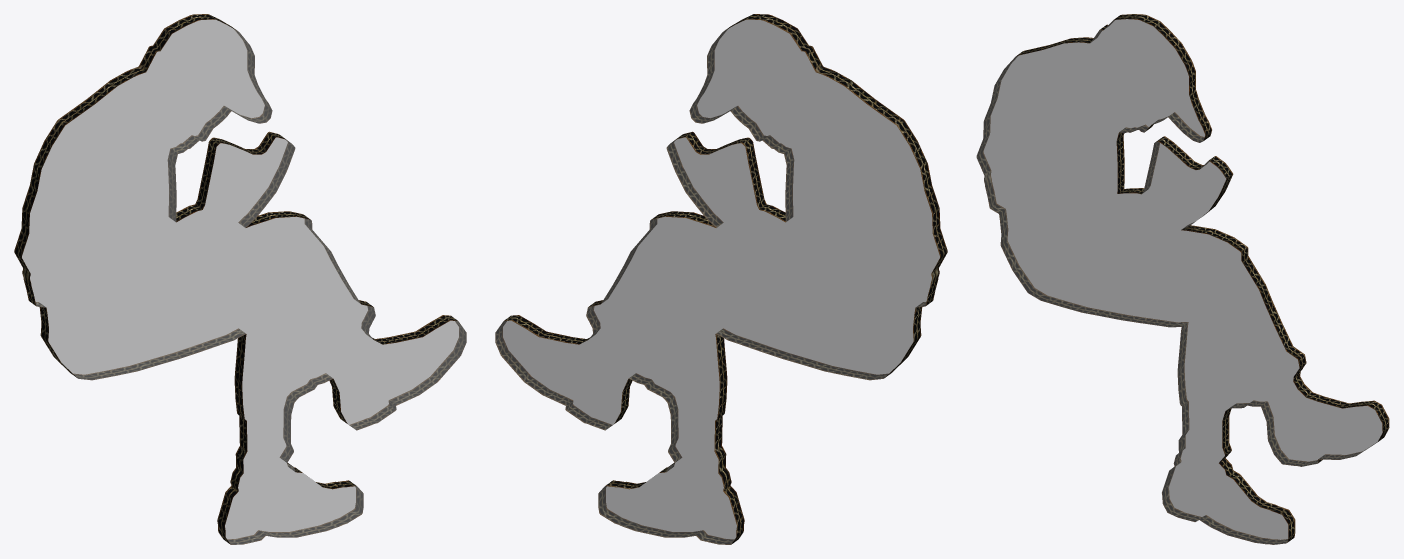
The model's file is NPC_Cafe_Patron_Older_Male_Reading_Newspaper.FBX.
3 renders of one model, left to right at view 1: azimuth 30°, elevation 25°; view 2: azimuth 150°, elevation 25°; view 3: azimuth 330°, elevation 25°, orthographic. The views are drawn at different scales.
Visible parts, largest first — view 1: NPC_Cafe_Patron_Older_Male_Reading_Newspaper; view 2: NPC_Cafe_Patron_Older_Male_Reading_Newspaper; view 3: NPC_Cafe_Patron_Older_Male_Reading_Newspaper.
Part boxes in pixels (box(x1,y1,x2,y2)): NPC_Cafe_Patron_Older_Male_Reading_Newspaper: box(14, 14, 466, 544); NPC_Cafe_Patron_Older_Male_Reading_Newspaper: box(495, 14, 947, 544); NPC_Cafe_Patron_Older_Male_Reading_Newspaper: box(976, 14, 1389, 544).
Size of the model in its own units: 41.4 by 48.18 by 1.23.
